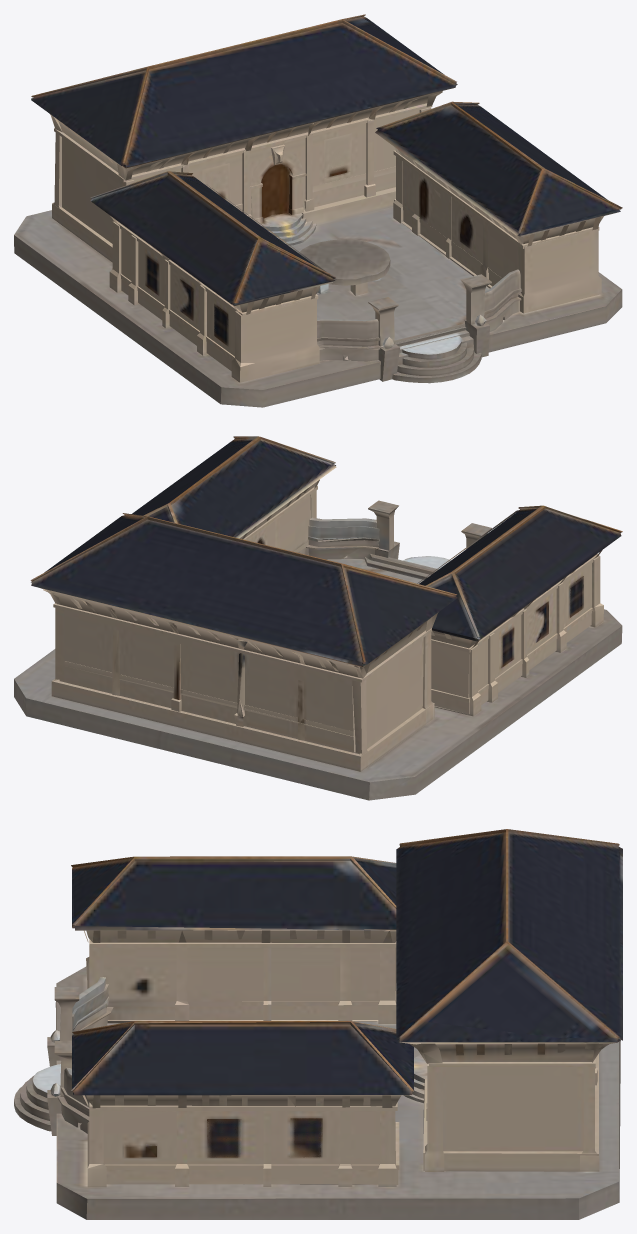
File: coordination-court-map.glb
The picture shows the model from 3 angles, top to bottom: view 1: azimuth 30°, elevation 25°; view 2: azimuth 150°, elevation 25°; view 3: azimuth 270°, elevation 25°; orthographic projection. The views are drawn at different scales.
Size of the model in its own units: 0.8633 by 0.3813 by 0.9536.
1 material, 1 textured.
